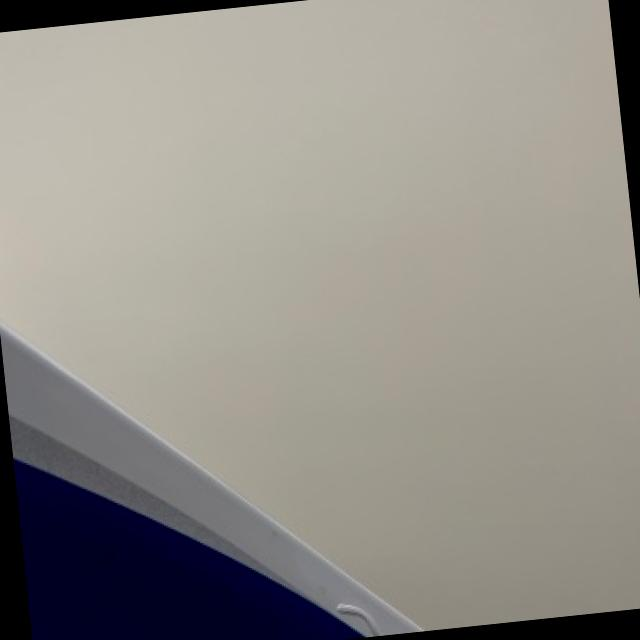healthy: (1, 326, 423, 640)
